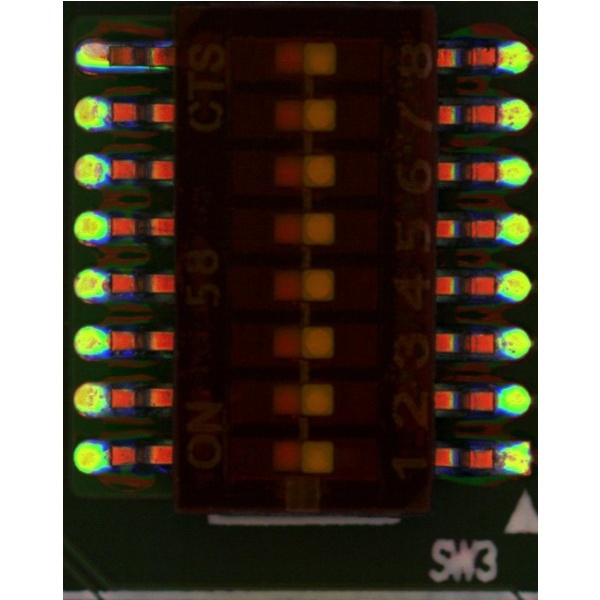Bad_podu: (97, 46, 119, 62)
Bad_qiaojiao: (111, 63, 168, 71)
